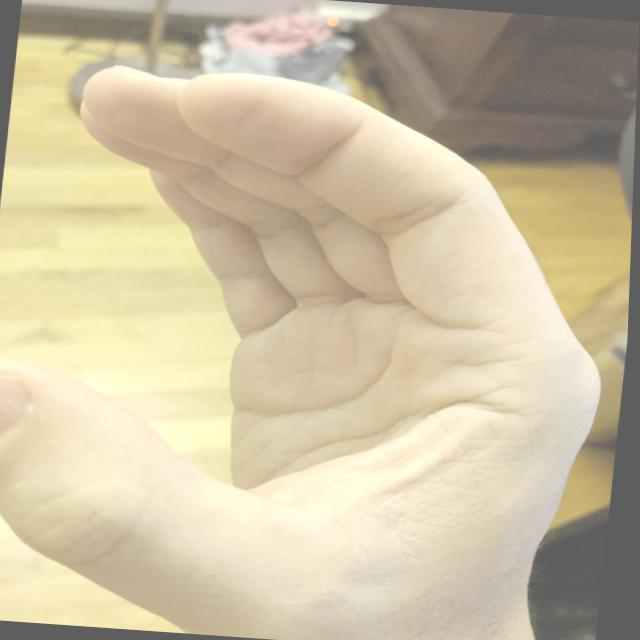C: (0, 42, 638, 639)
